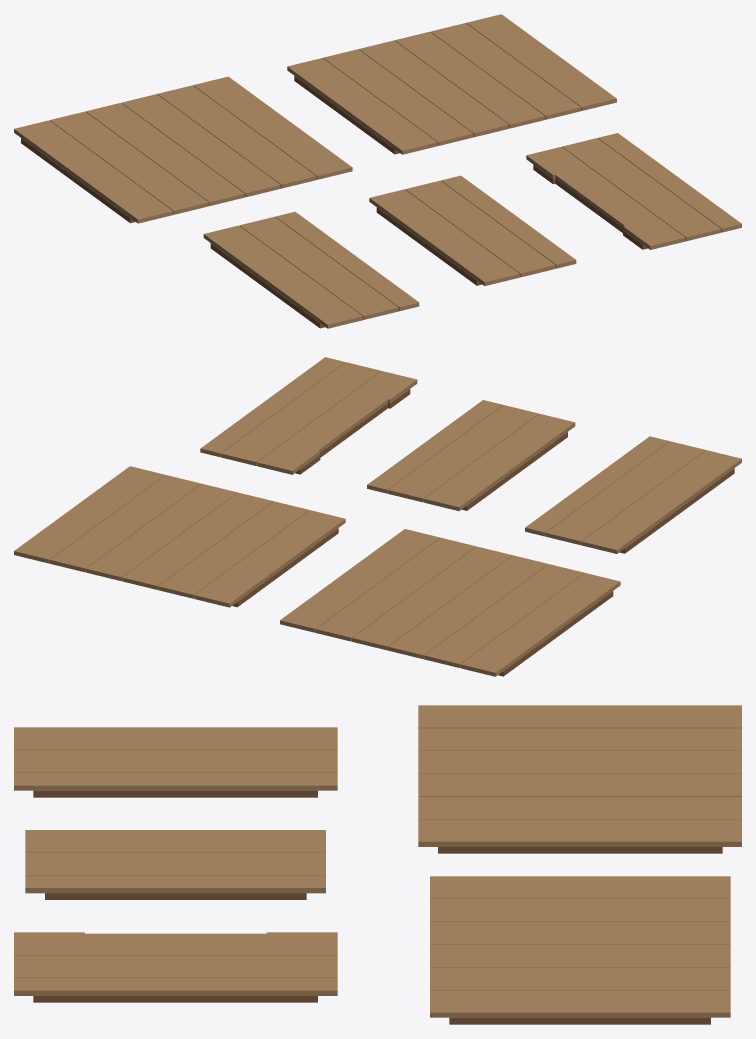
3 renders of one model, top to bottom at view 1: azimuth 30°, elevation 25°; view 2: azimuth 150°, elevation 25°; view 3: azimuth 270°, elevation 25°, orthographic. The views are drawn at different scales.
Visible parts, largest first — view 1: Floor_Centre_2x2, Floor_End_2x1p858, Floor_Edge_0p858x2, Floor_DoorEdge_0p858x2_Notch20mm, Floor_EdgeEnd_0p858x1p858; view 2: Floor_Centre_2x2, Floor_End_2x1p858, Floor_Edge_0p858x2, Floor_DoorEdge_0p858x2_Notch20mm, Floor_EdgeEnd_0p858x1p858; view 3: Floor_Centre_2x2, Floor_End_2x1p858, Floor_Edge_0p858x2, Floor_DoorEdge_0p858x2_Notch20mm, Floor_EdgeEnd_0p858x1p858.
Boxes of the visible parts, box(x1,y1,x2,y2) form: Floor_Centre_2x2: box(14, 76, 352, 223); Floor_End_2x1p858: box(287, 14, 616, 154); Floor_Edge_0p858x2: box(203, 211, 419, 328); Floor_DoorEdge_0p858x2_Notch20mm: box(526, 133, 741, 249); Floor_EdgeEnd_0p858x1p858: box(369, 175, 576, 285); Floor_Centre_2x2: box(280, 529, 620, 676); Floor_End_2x1p858: box(14, 466, 345, 607); Floor_Edge_0p858x2: box(525, 436, 741, 553); Floor_DoorEdge_0p858x2_Notch20mm: box(200, 357, 417, 474); Floor_EdgeEnd_0p858x1p858: box(367, 400, 575, 510); Floor_Centre_2x2: box(418, 705, 741, 853); Floor_End_2x1p858: box(430, 876, 730, 1024); Floor_Edge_0p858x2: box(14, 727, 337, 797); Floor_DoorEdge_0p858x2_Notch20mm: box(14, 932, 337, 1002); Floor_EdgeEnd_0p858x1p858: box(25, 830, 325, 899).
Bounding box in the file's own units: 4.5 × 0.08 × 4.5.
